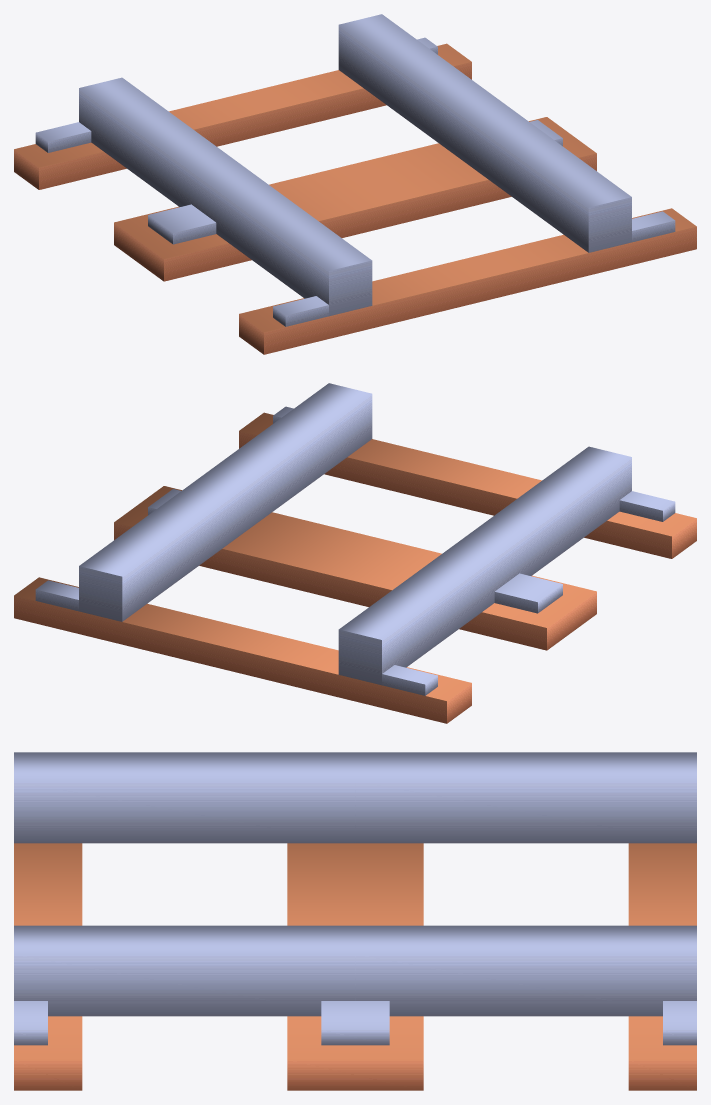
File: track-detailed.glb
3 views of the same model, one above another, from view 1: azimuth 30°, elevation 25°; view 2: azimuth 150°, elevation 25°; view 3: azimuth 270°, elevation 25° (orthographic). The views are drawn at different scales.
Visible parts, largest first — view 1: track-detailed; view 2: track-detailed; view 3: track-detailed.
Boxes of the visible parts, box(x1,y1,x2,y2) form: track-detailed: box(14, 14, 696, 354); track-detailed: box(14, 383, 696, 723); track-detailed: box(14, 752, 696, 1090).
Size of the model in its own units: 1 by 0.15 by 1.
1 material, 1 textured.
